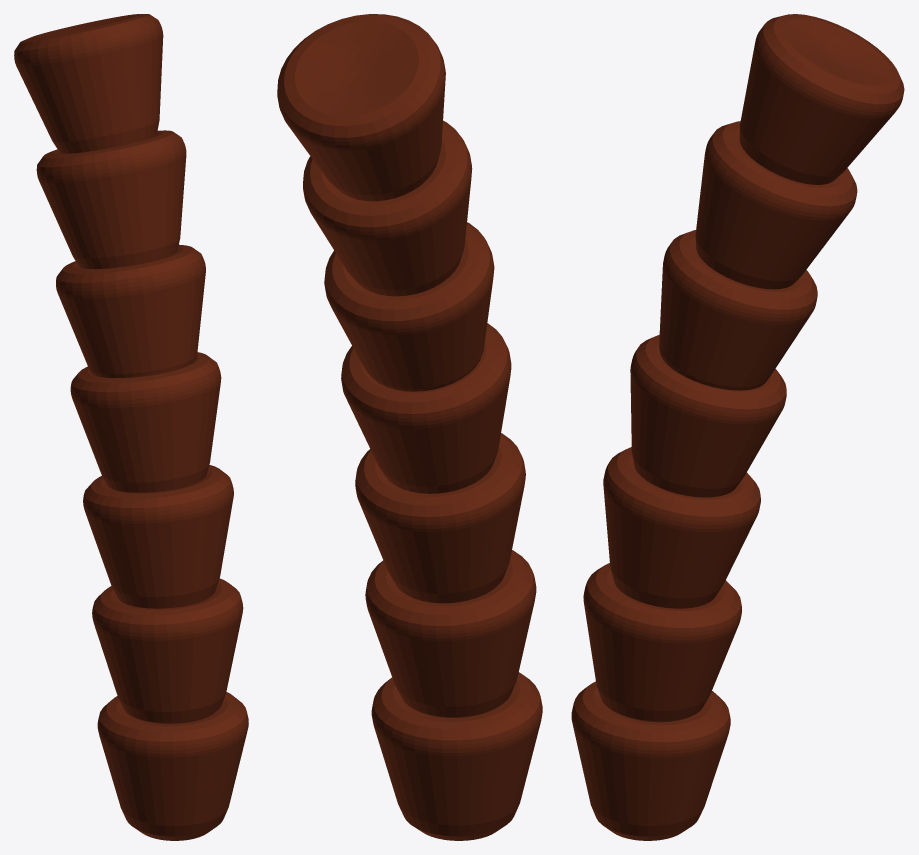
The model's file is Tronco_20_L.obj.
3 renders of one model, left to right at view 1: azimuth 30°, elevation 25°; view 2: azimuth 150°, elevation 25°; view 3: azimuth 270°, elevation 25°, orthographic. The views are drawn at different scales.
Visible parts, largest first — view 1: Cylinder.016_Cylinder.009; view 2: Cylinder.016_Cylinder.009; view 3: Cylinder.016_Cylinder.009.
Boxes of the visible parts, x1,y1,x2,y2 form: Cylinder.016_Cylinder.009: (14,14,248,840); Cylinder.016_Cylinder.009: (277,14,542,840); Cylinder.016_Cylinder.009: (571,14,904,840).
Bounding box in the file's own units: 10.74 × 59.5 × 22.44.
